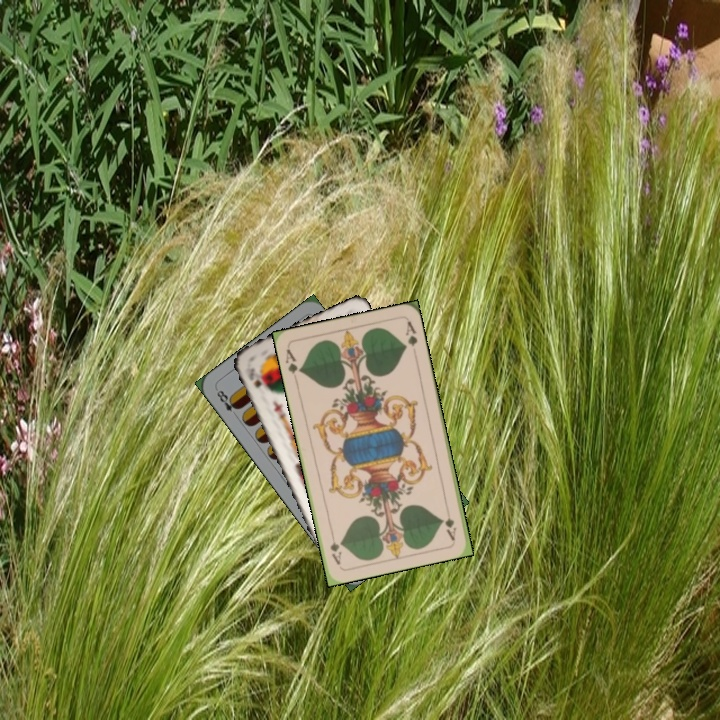E8: (212, 385, 242, 420)
GA: (281, 345, 304, 384), (441, 502, 459, 543)
SK: (244, 364, 264, 390)
